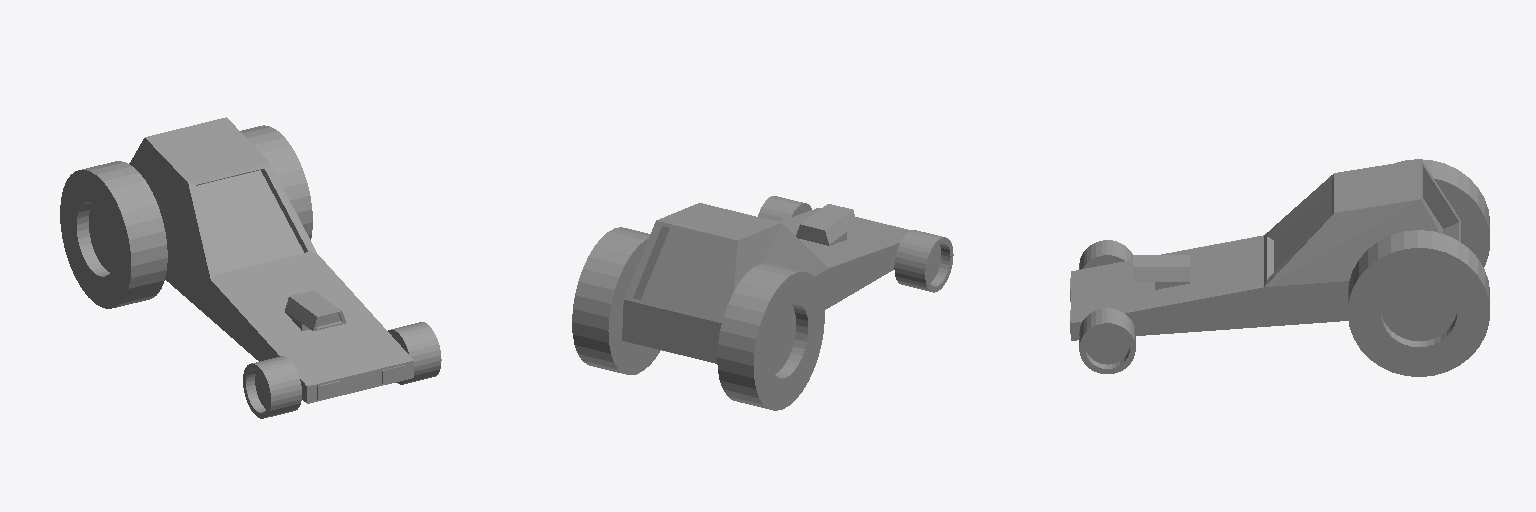
File: low_poly_car.obj
3 views of the same model, side by side, from view 1: azimuth 30°, elevation 25°; view 2: azimuth 150°, elevation 25°; view 3: azimuth 270°, elevation 25° (orthographic).
Parts seen in each view (by area): view 1: Low_Poly_Car_Cube.001, Left_Back_Wheel_Cylinder.005, Left_Front_Wheel_Cylinder.004, Right_Back_Wheel_Cylinder, Right_Front_Wheel_Cylinder.001, Engine_Cube.004; view 2: Low_Poly_Car_Cube.001, Left_Back_Wheel_Cylinder.005, Right_Back_Wheel_Cylinder, Left_Front_Wheel_Cylinder.004, Engine_Cube.004, Right_Front_Wheel_Cylinder.001; view 3: Low_Poly_Car_Cube.001, Right_Back_Wheel_Cylinder, Right_Front_Wheel_Cylinder.001, Left_Back_Wheel_Cylinder.005, Engine_Cube.004, Left_Front_Wheel_Cylinder.004.
Boxes of the visible parts, box(x1,y1,x2,y2) form: Low_Poly_Car_Cube.001: box(129, 117, 413, 403); Left_Back_Wheel_Cylinder.005: box(60, 161, 167, 308); Left_Front_Wheel_Cylinder.004: box(243, 356, 301, 418); Right_Back_Wheel_Cylinder: box(240, 125, 312, 239); Right_Front_Wheel_Cylinder.001: box(388, 322, 441, 384); Engine_Cube.004: box(285, 290, 346, 330); Low_Poly_Car_Cube.001: box(622, 203, 910, 363); Left_Back_Wheel_Cylinder.005: box(717, 263, 824, 410); Right_Back_Wheel_Cylinder: box(572, 227, 660, 374); Left_Front_Wheel_Cylinder.004: box(894, 230, 953, 292); Engine_Cube.004: box(796, 204, 857, 245); Right_Front_Wheel_Cylinder.001: box(758, 196, 811, 221); Low_Poly_Car_Cube.001: box(1071, 159, 1462, 340); Right_Back_Wheel_Cylinder: box(1348, 230, 1489, 376); Right_Front_Wheel_Cylinder.001: box(1079, 308, 1135, 373); Left_Back_Wheel_Cylinder.005: box(1397, 159, 1489, 266); Engine_Cube.004: box(1133, 255, 1189, 289); Left_Front_Wheel_Cylinder.004: box(1079, 240, 1132, 269).
Bounding box in the file's own units: 3.63 × 2.94 × 7.28.